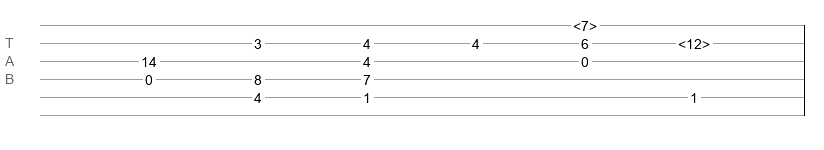0: (145, 72, 153, 82), (581, 54, 589, 64)
1: (363, 90, 371, 100), (690, 90, 698, 100)
14: (141, 54, 157, 64)
3: (254, 36, 262, 46)
4: (254, 90, 262, 100), (363, 36, 371, 46), (363, 54, 371, 64), (472, 36, 480, 46)
6: (581, 36, 589, 46)
7: (363, 72, 371, 82)
8: (254, 72, 262, 82)
harmonic: (678, 36, 710, 46), (573, 18, 597, 28)
